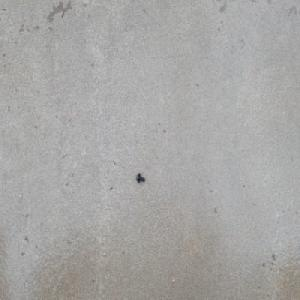BoltWasher: (136, 172, 145, 184)
